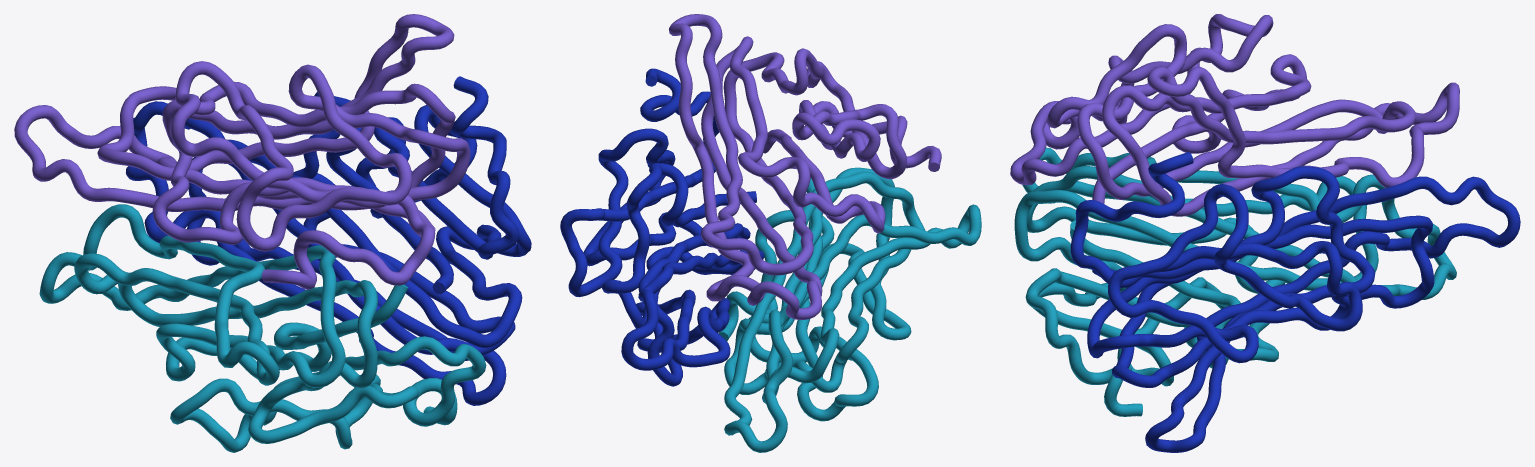
Rendered from ribbons.glb.
3 renders of one model, left to right at view 1: azimuth 30°, elevation 25°; view 2: azimuth 150°, elevation 25°; view 3: azimuth 270°, elevation 25°, orthographic. The views are drawn at different scales.
Visible parts, largest first — view 1: S_RIB; view 2: S_RIB; view 3: S_RIB.
Boxes of the visible parts, x1=… form: S_RIB: x1=14, y1=14, x2=531, y2=452; S_RIB: x1=560, y1=14, x2=981, y2=452; S_RIB: x1=1010, y1=14, x2=1520, y2=452.
Size of the model in its own units: 4.84 by 5.2 by 6.39.
